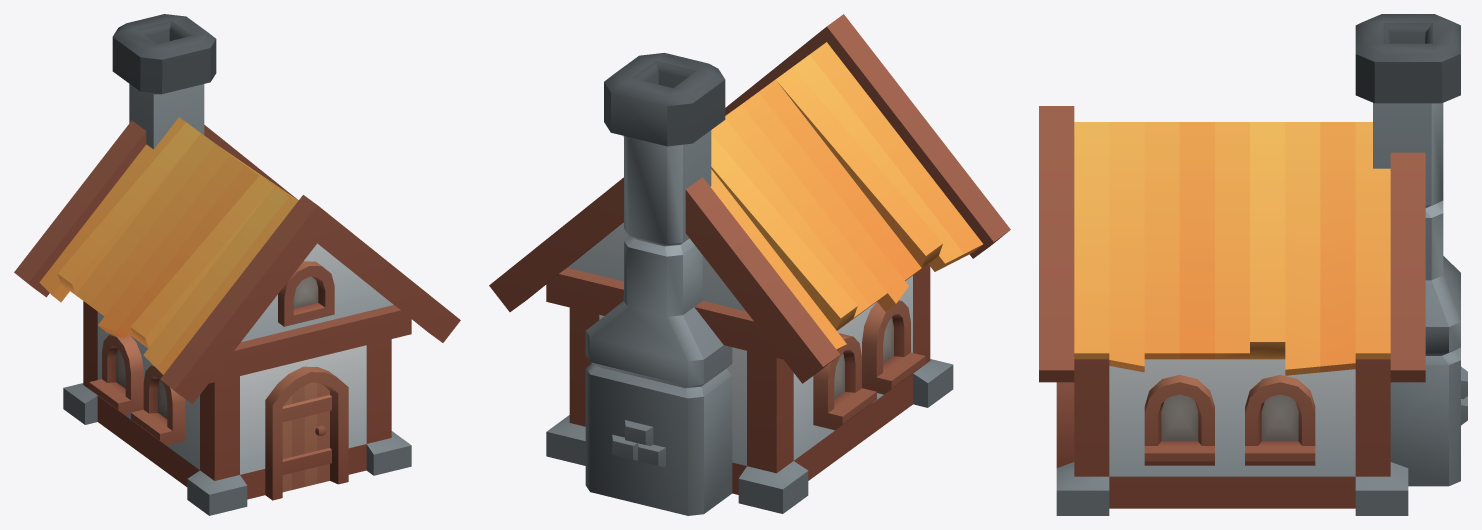
File: building_home_A_yellow.gltf
3 views of the same model, side by side, from view 1: azimuth 30°, elevation 25°; view 2: azimuth 150°, elevation 25°; view 3: azimuth 270°, elevation 25° (orthographic). The views are drawn at different scales.
Visible parts, largest first — view 1: building_home_A_yellow; view 2: building_home_A_yellow; view 3: building_home_A_yellow.
Part boxes in pixels (box(x1,y1,x2,y2)): building_home_A_yellow: box(14, 14, 460, 515); building_home_A_yellow: box(489, 14, 1010, 515); building_home_A_yellow: box(1039, 14, 1467, 515).
Size of the model in its own units: 0.7919 by 0.93 by 0.8537.
Materials: 1 (1 with a texture image).
